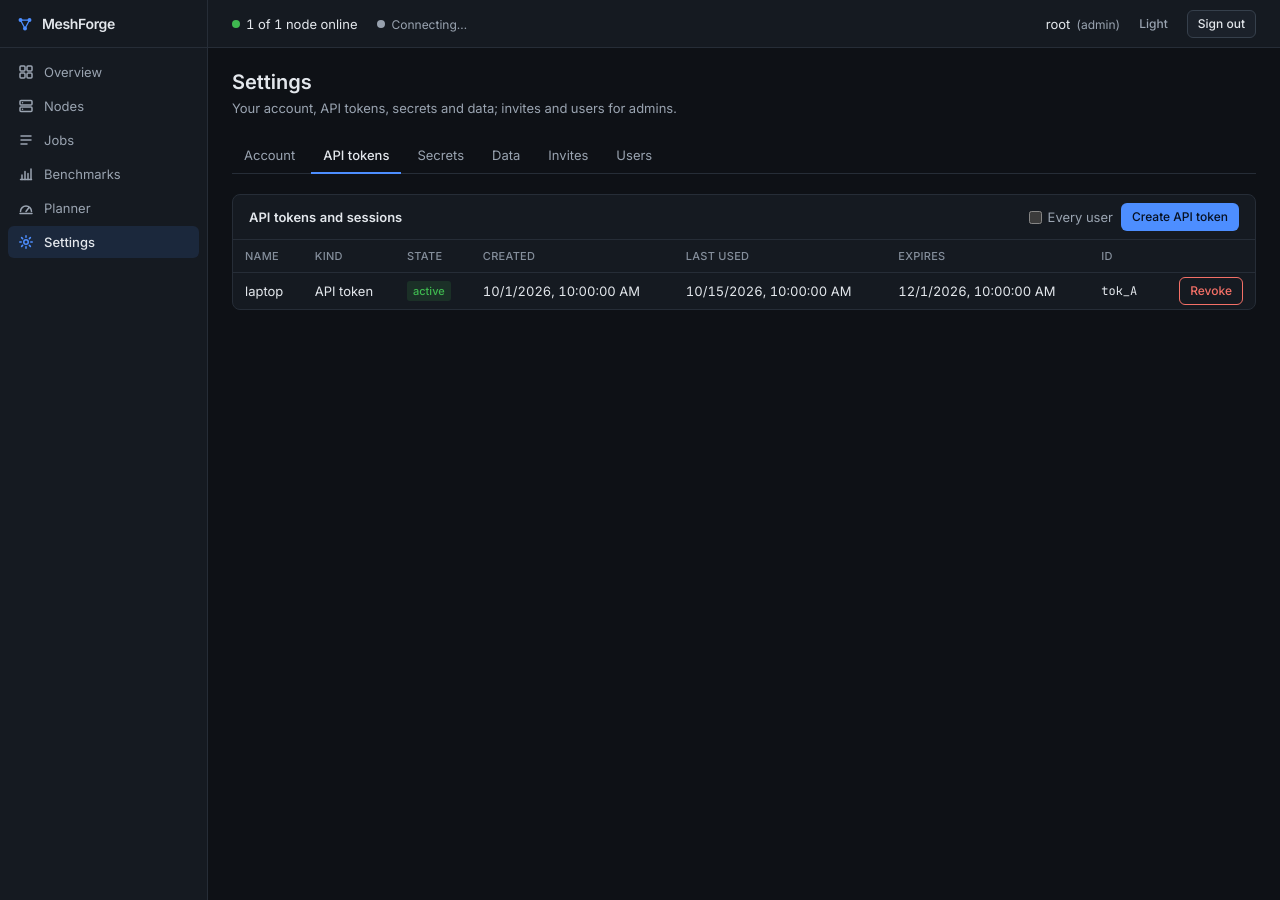
API tokens › revoke goes through a confirm dialog, sends the CSRF header, and refetches
Click the button with aria-label "Revoke laptop (tok_A)" at (1211, 290), box x1=1179 y1=276 x2=1243 y2=304
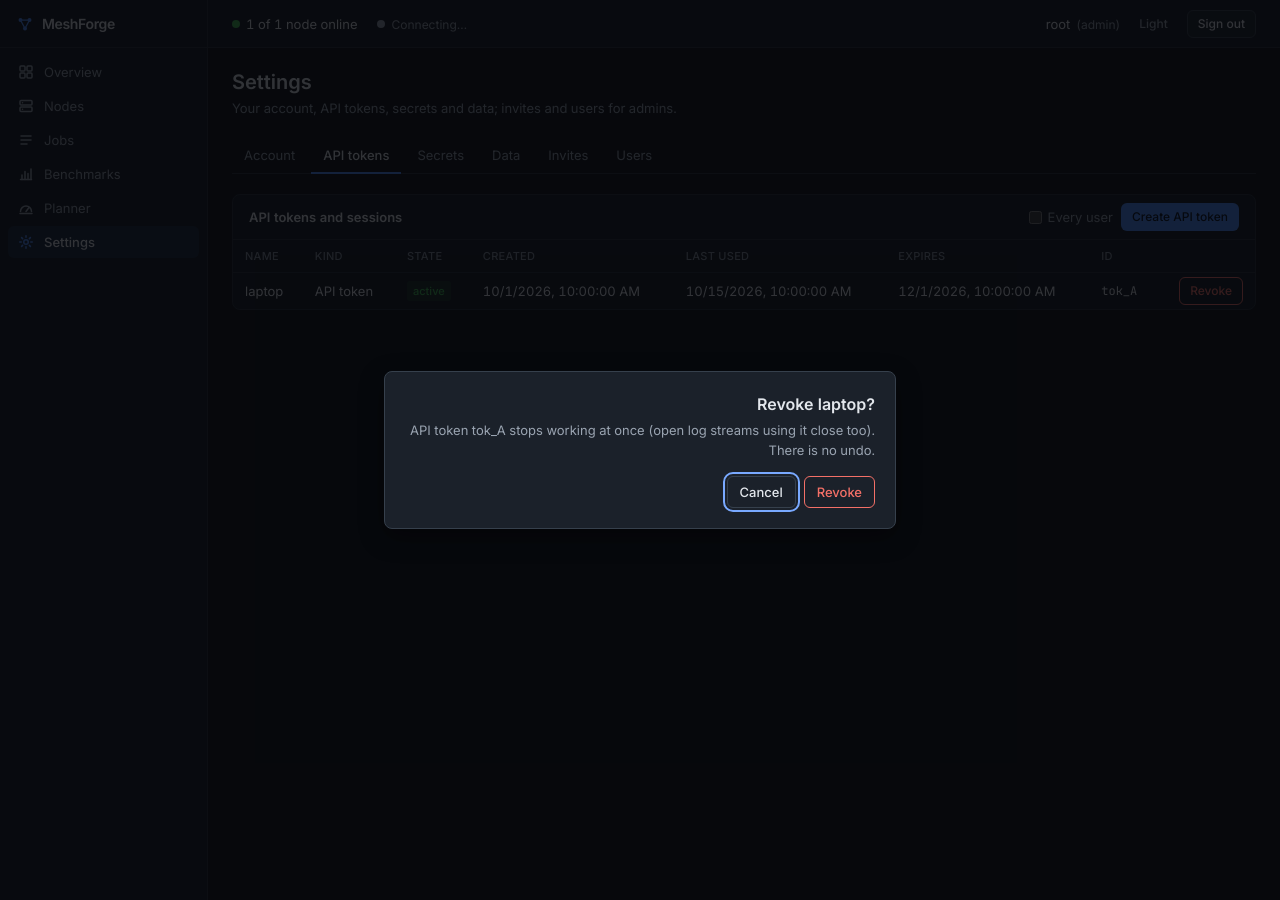
Click the button "Revoke" below "Revoke laptop?" at (839, 492), box x1=804 y1=476 x2=875 y2=508
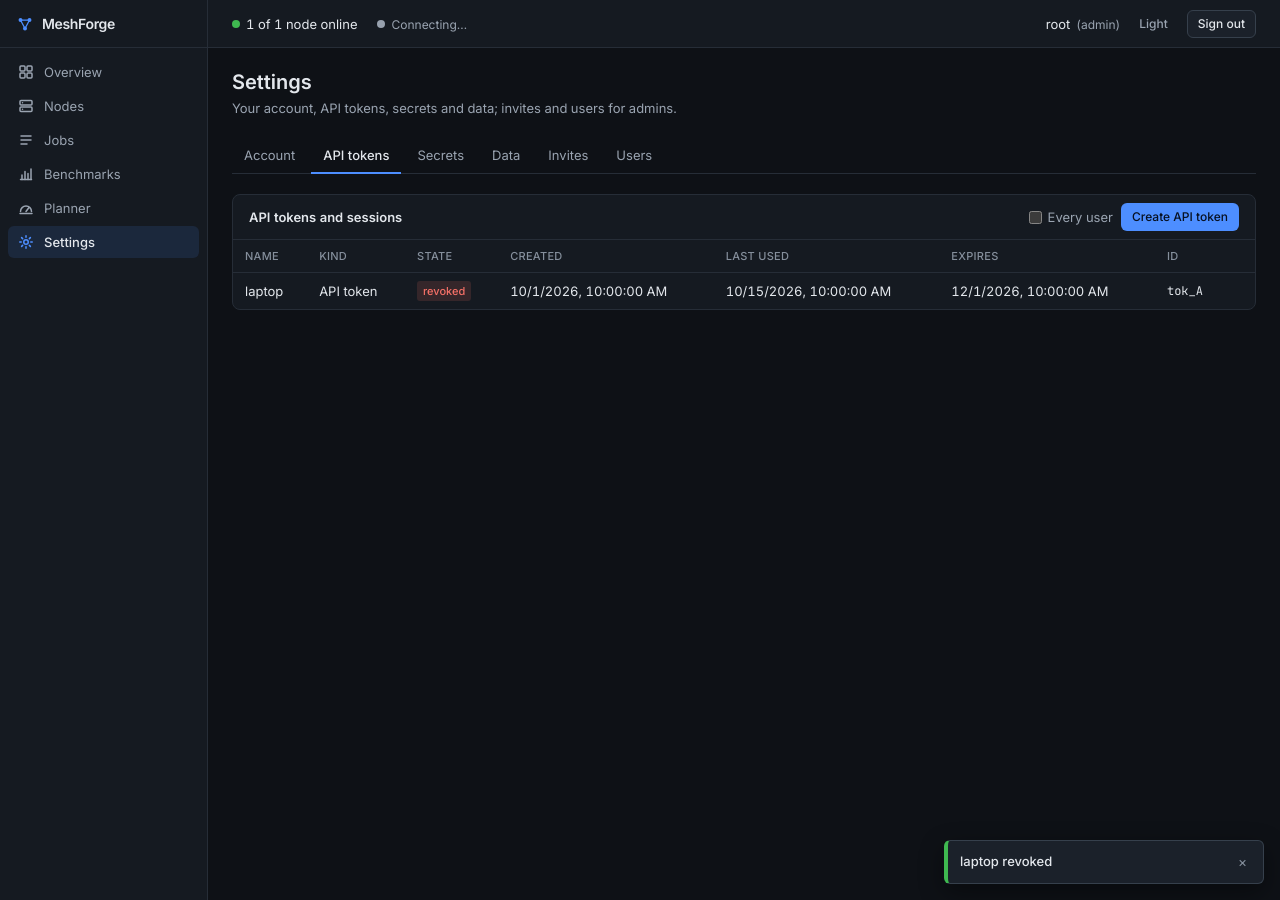
Now the text "laptop revoked" is shown, box x1=960 y1=853 x2=1052 y2=869
Now the text "revoked" is shown, box x1=417 y1=281 x2=471 y2=301
